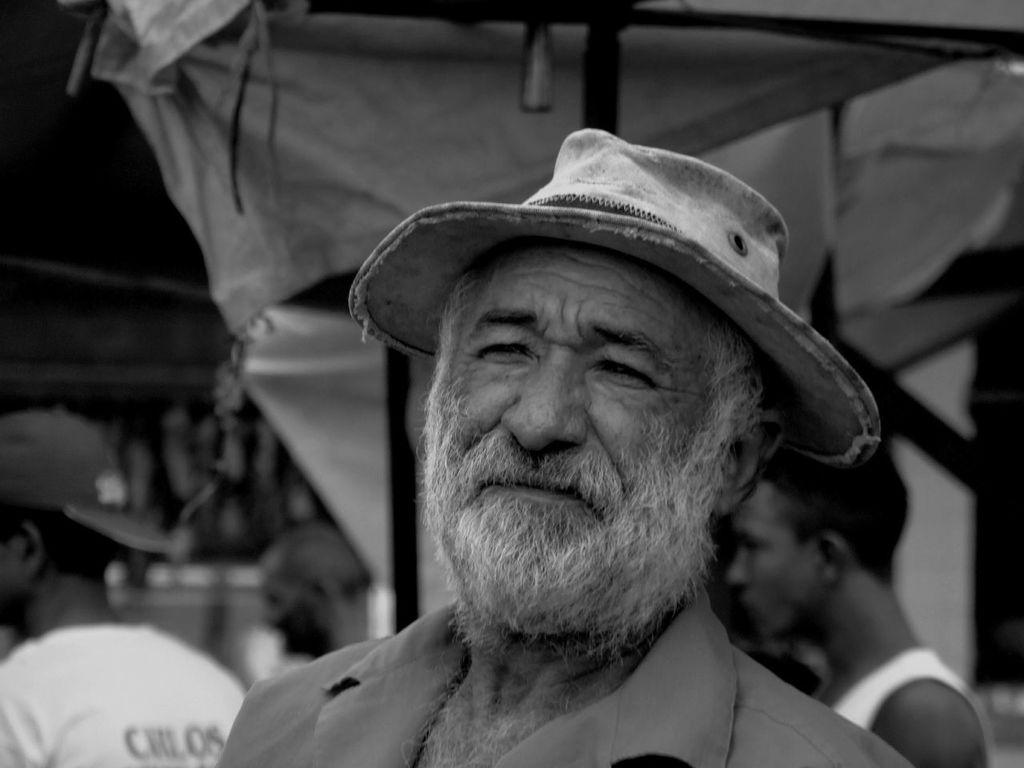Hat: (346, 121, 878, 466), (0, 402, 172, 554)
